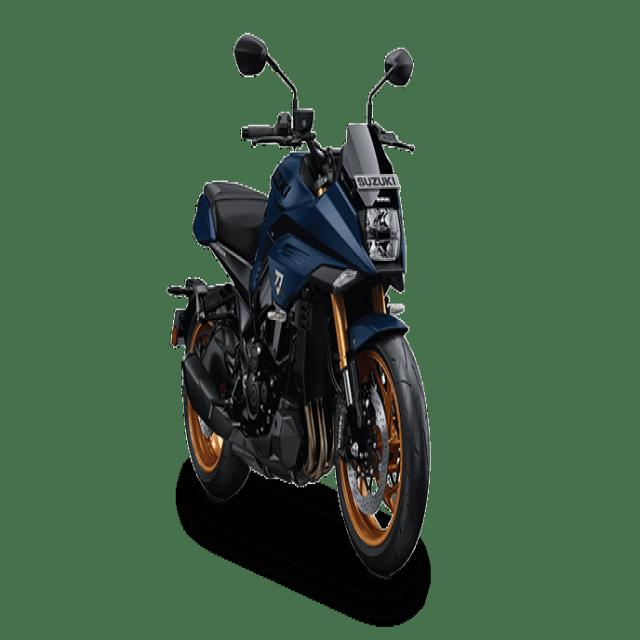motorcycle: (169, 33, 430, 577)
